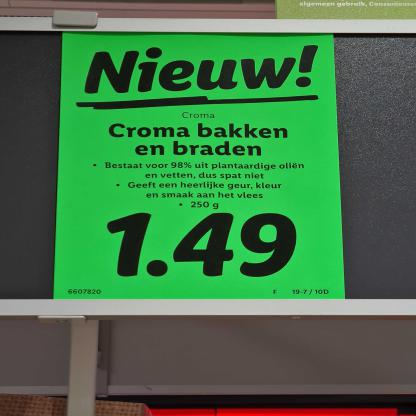prtg: (55, 34, 348, 301)
